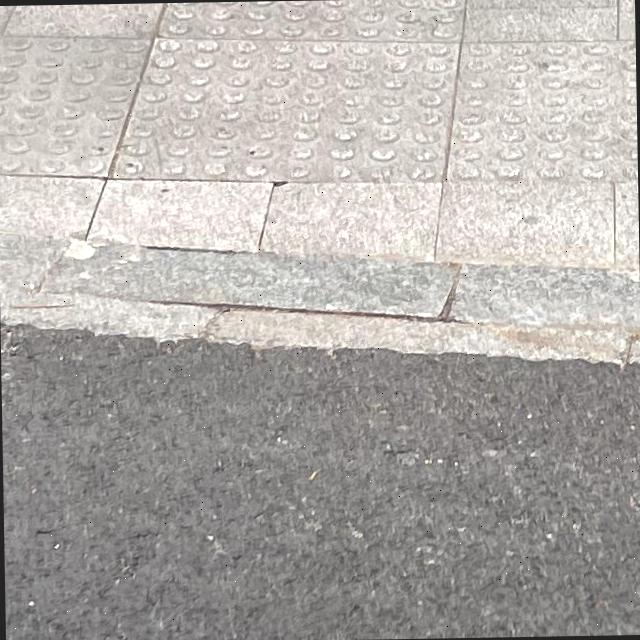curb: (0, 233, 639, 333)
